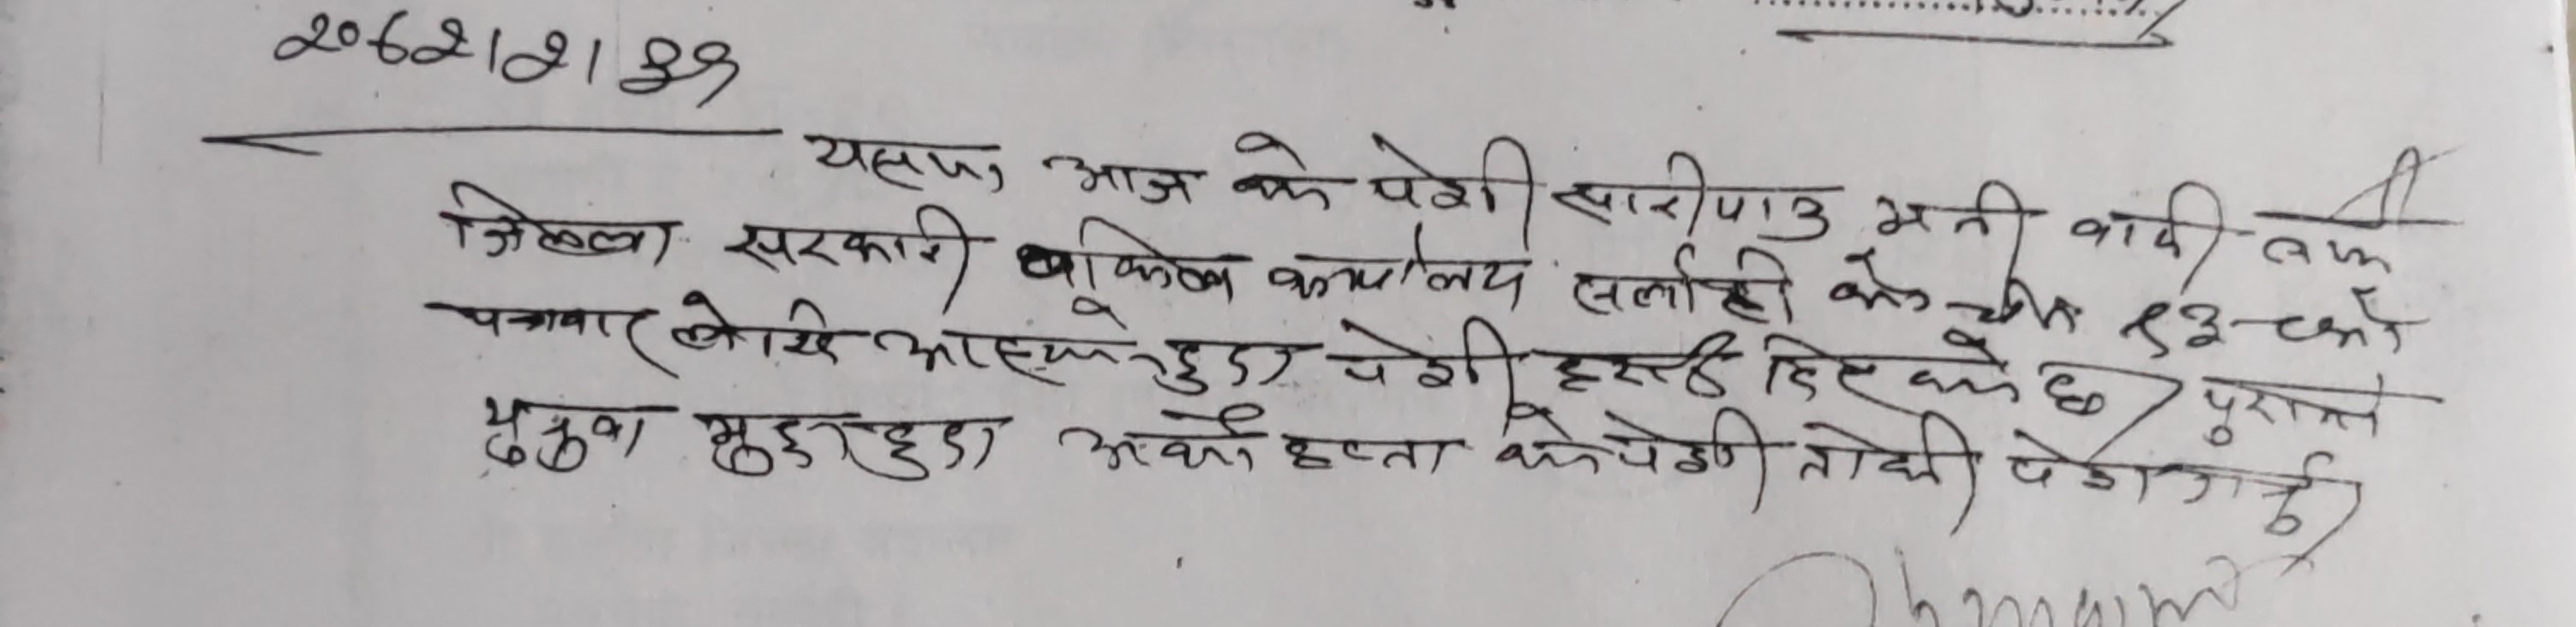text: (261, 2, 746, 120), (871, 300, 1311, 399), (690, 394, 1005, 489), (1549, 146, 1838, 245), (1009, 208, 1253, 320), (432, 172, 683, 277), (1493, 409, 1774, 502), (716, 200, 982, 295), (2251, 149, 2436, 281), (1753, 320, 2022, 410), (1260, 228, 1539, 310), (432, 287, 674, 381), (1562, 246, 1807, 335), (1792, 409, 1988, 519), (2177, 277, 2412, 366), (1822, 256, 2085, 335), (1332, 307, 1526, 409), (1359, 128, 1548, 231), (1056, 399, 1267, 479), (2170, 448, 2339, 547), (2198, 371, 2392, 455), (802, 126, 1015, 202), (1554, 325, 1741, 409), (470, 389, 660, 471), (2063, 179, 2233, 268), (1870, 174, 2035, 256), (674, 287, 844, 366), (1035, 143, 1204, 213), (2006, 432, 2152, 510), (1270, 422, 1460, 478), (1226, 128, 1341, 218), (2029, 343, 2119, 425)
